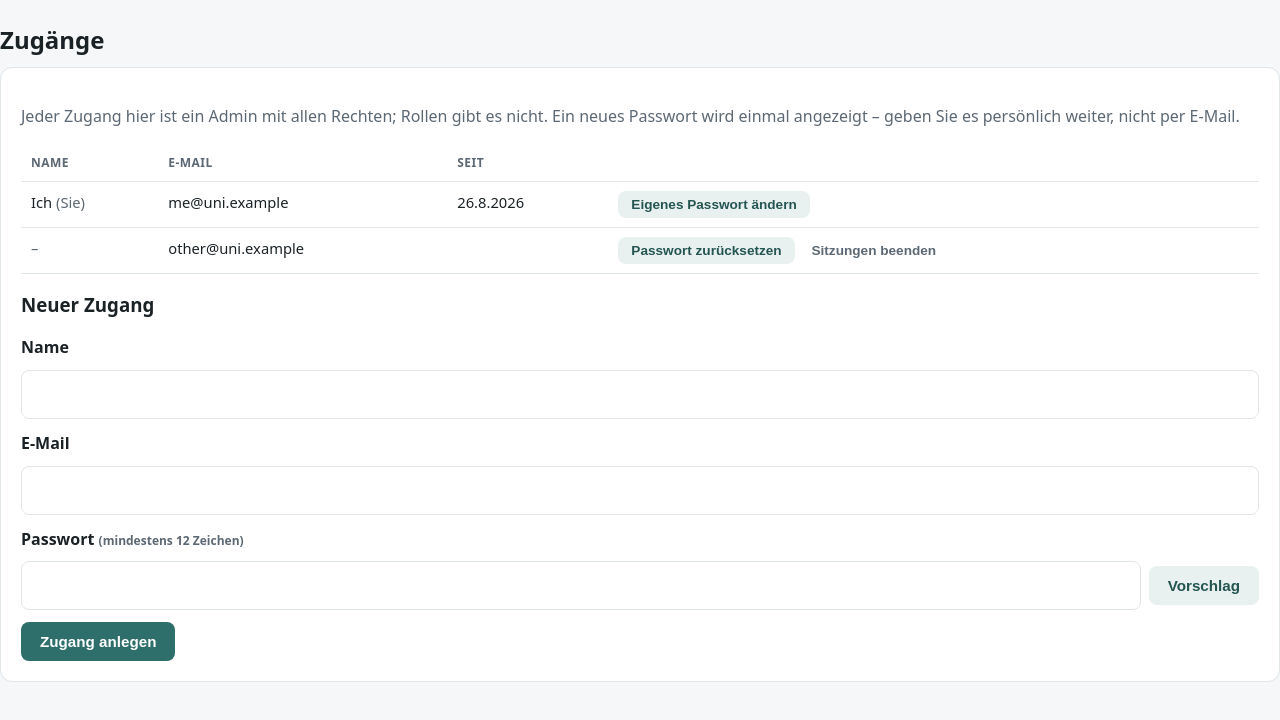
Test: changing the own password hands the new session token back
This screenshot has width=1280, height=720.
Expected: the text "other@uni.example" is shown, [158,228,447,274]
Click the button "Eigenes Passwort ändern" at (714, 205), box [618,191,810,218]
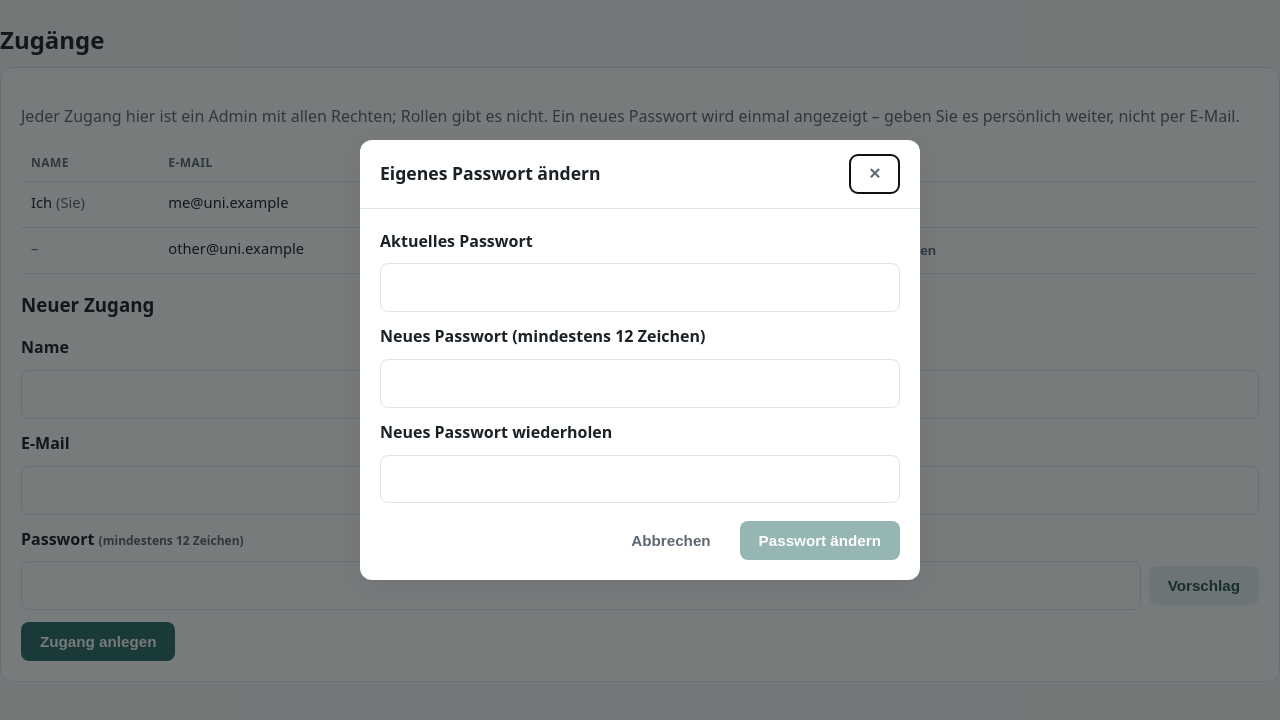
Type "old-password-1234" into the password field labelled "Aktuelles Passwort" at (640, 288), box [380,263,900,312]
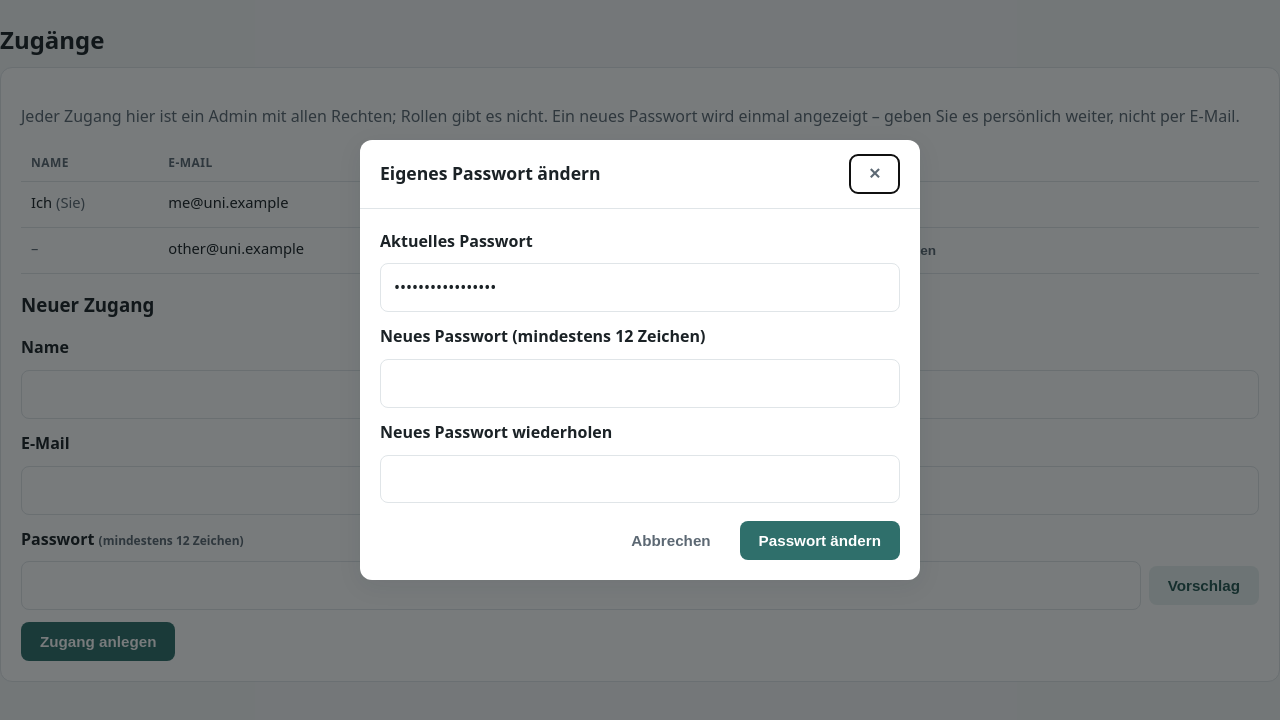
Type "new-password-5678" into the password field labelled "Neues Passwort (mindestens 12 Zeichen)" at (640, 383), box [380,359,900,408]
Type "new-password-56" into the password field labelled "Neues Passwort wiederholen" at (640, 479), box [380,455,900,503]
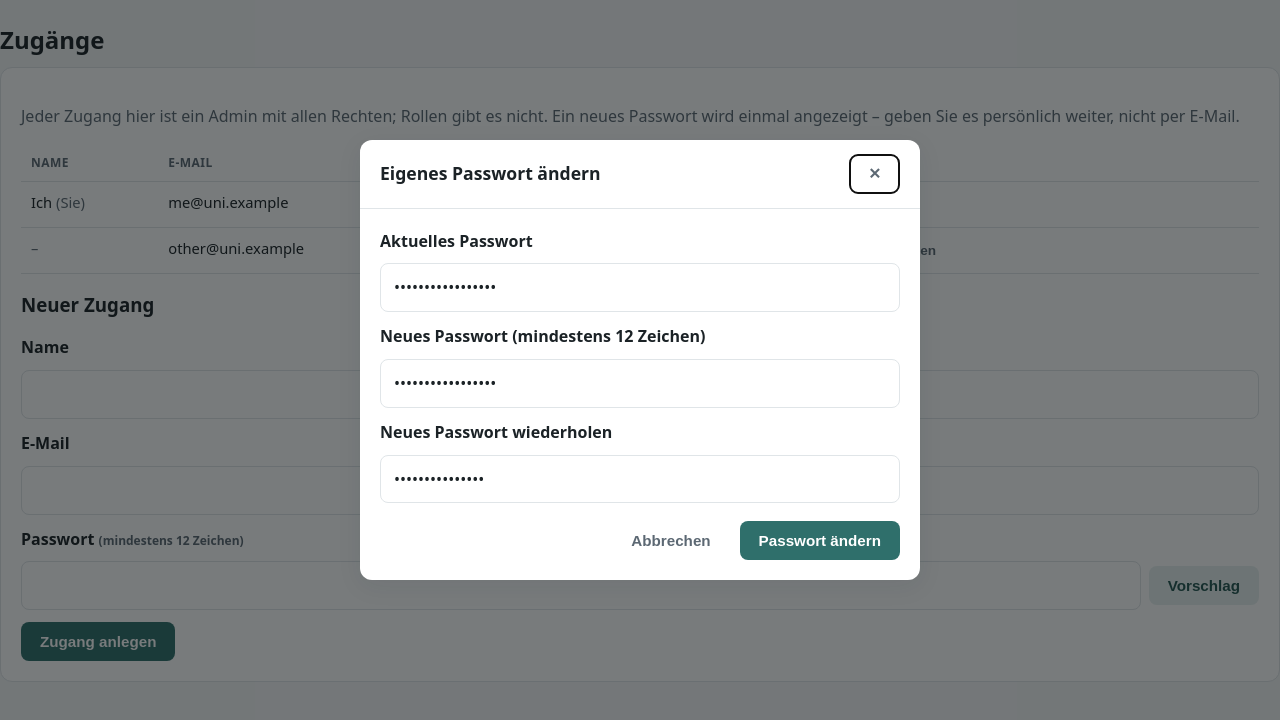
Click the button "Passwort ändern" at (820, 541), box [740,521,900,560]
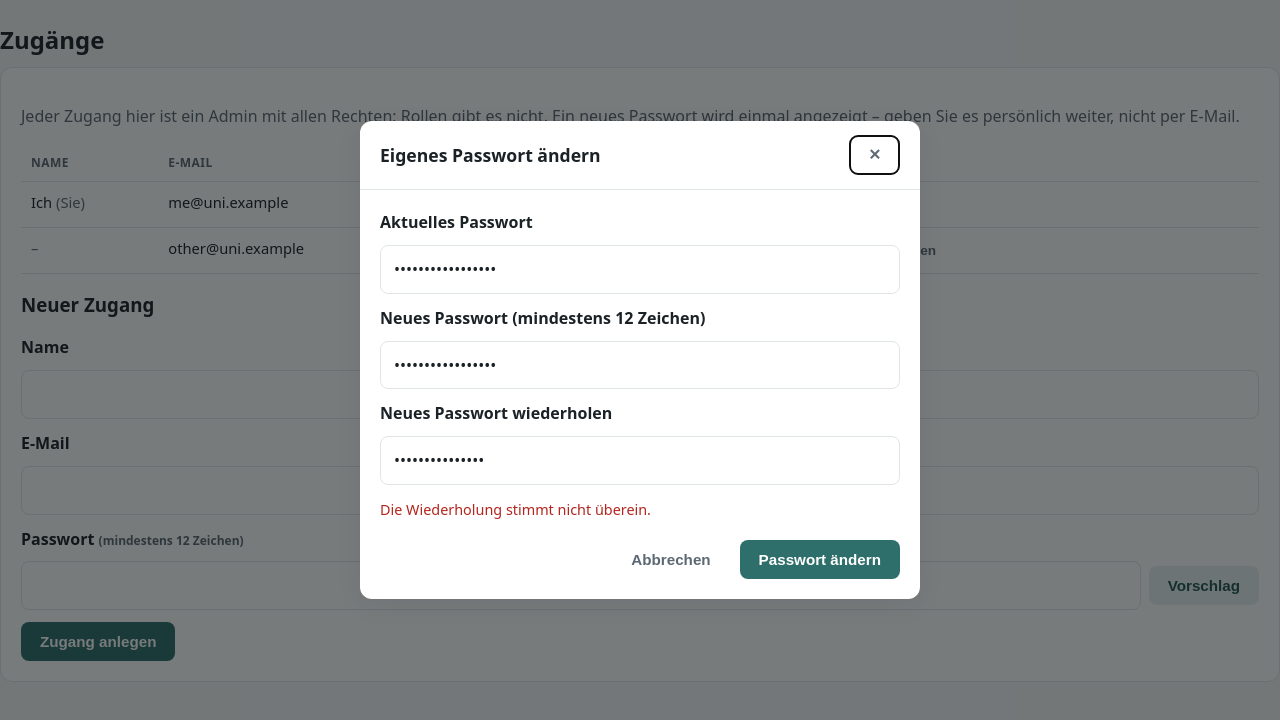
Expected: the text "Die Wiederholung stimmt nicht überein." is shown, [380,500,651,519]
Type "new-password-5678" into the password field labelled "Neues Passwort wiederholen" at (640, 461), box [380,436,900,485]
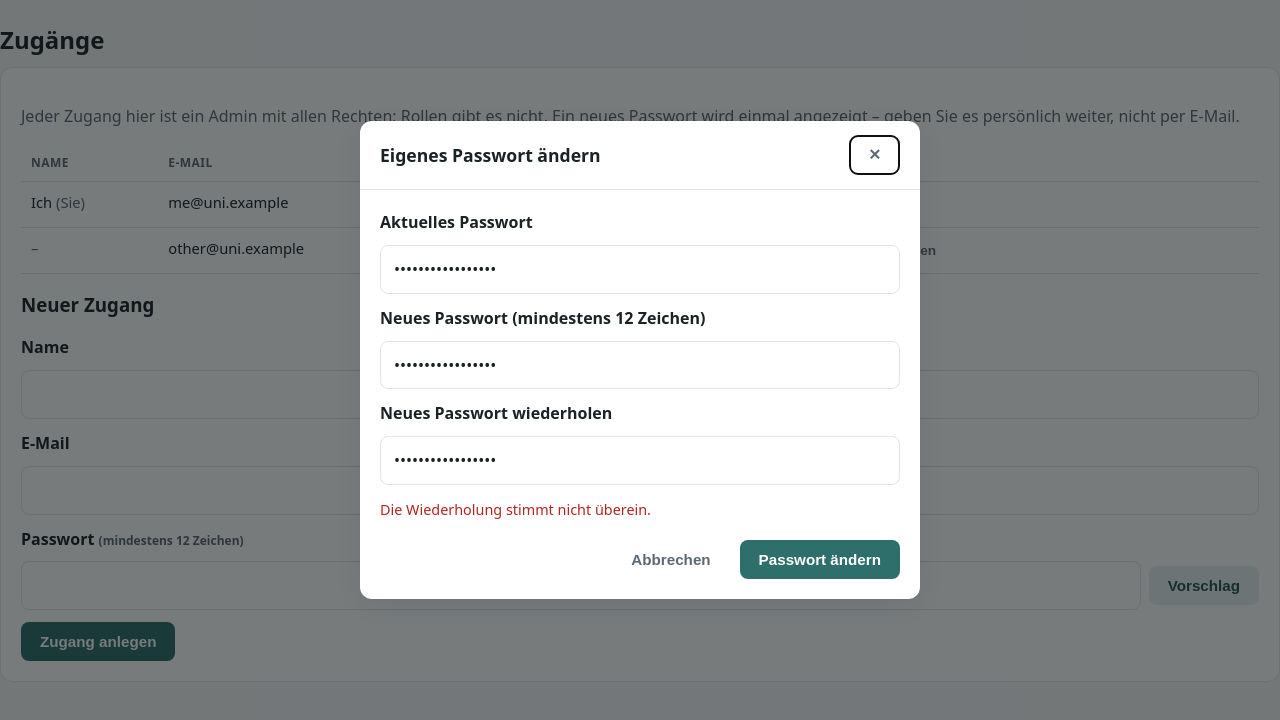
Click the button "Passwort ändern" at (820, 559), box [740,540,900,579]
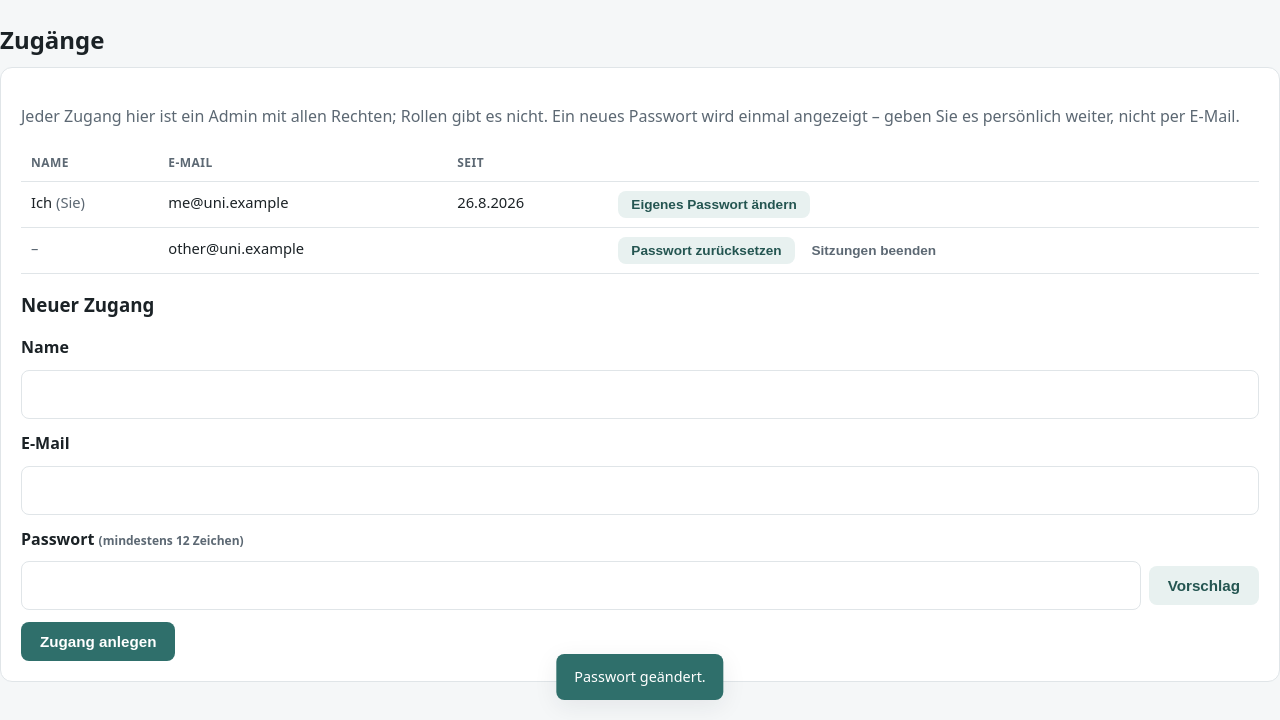
Expected: the dialog is gone
